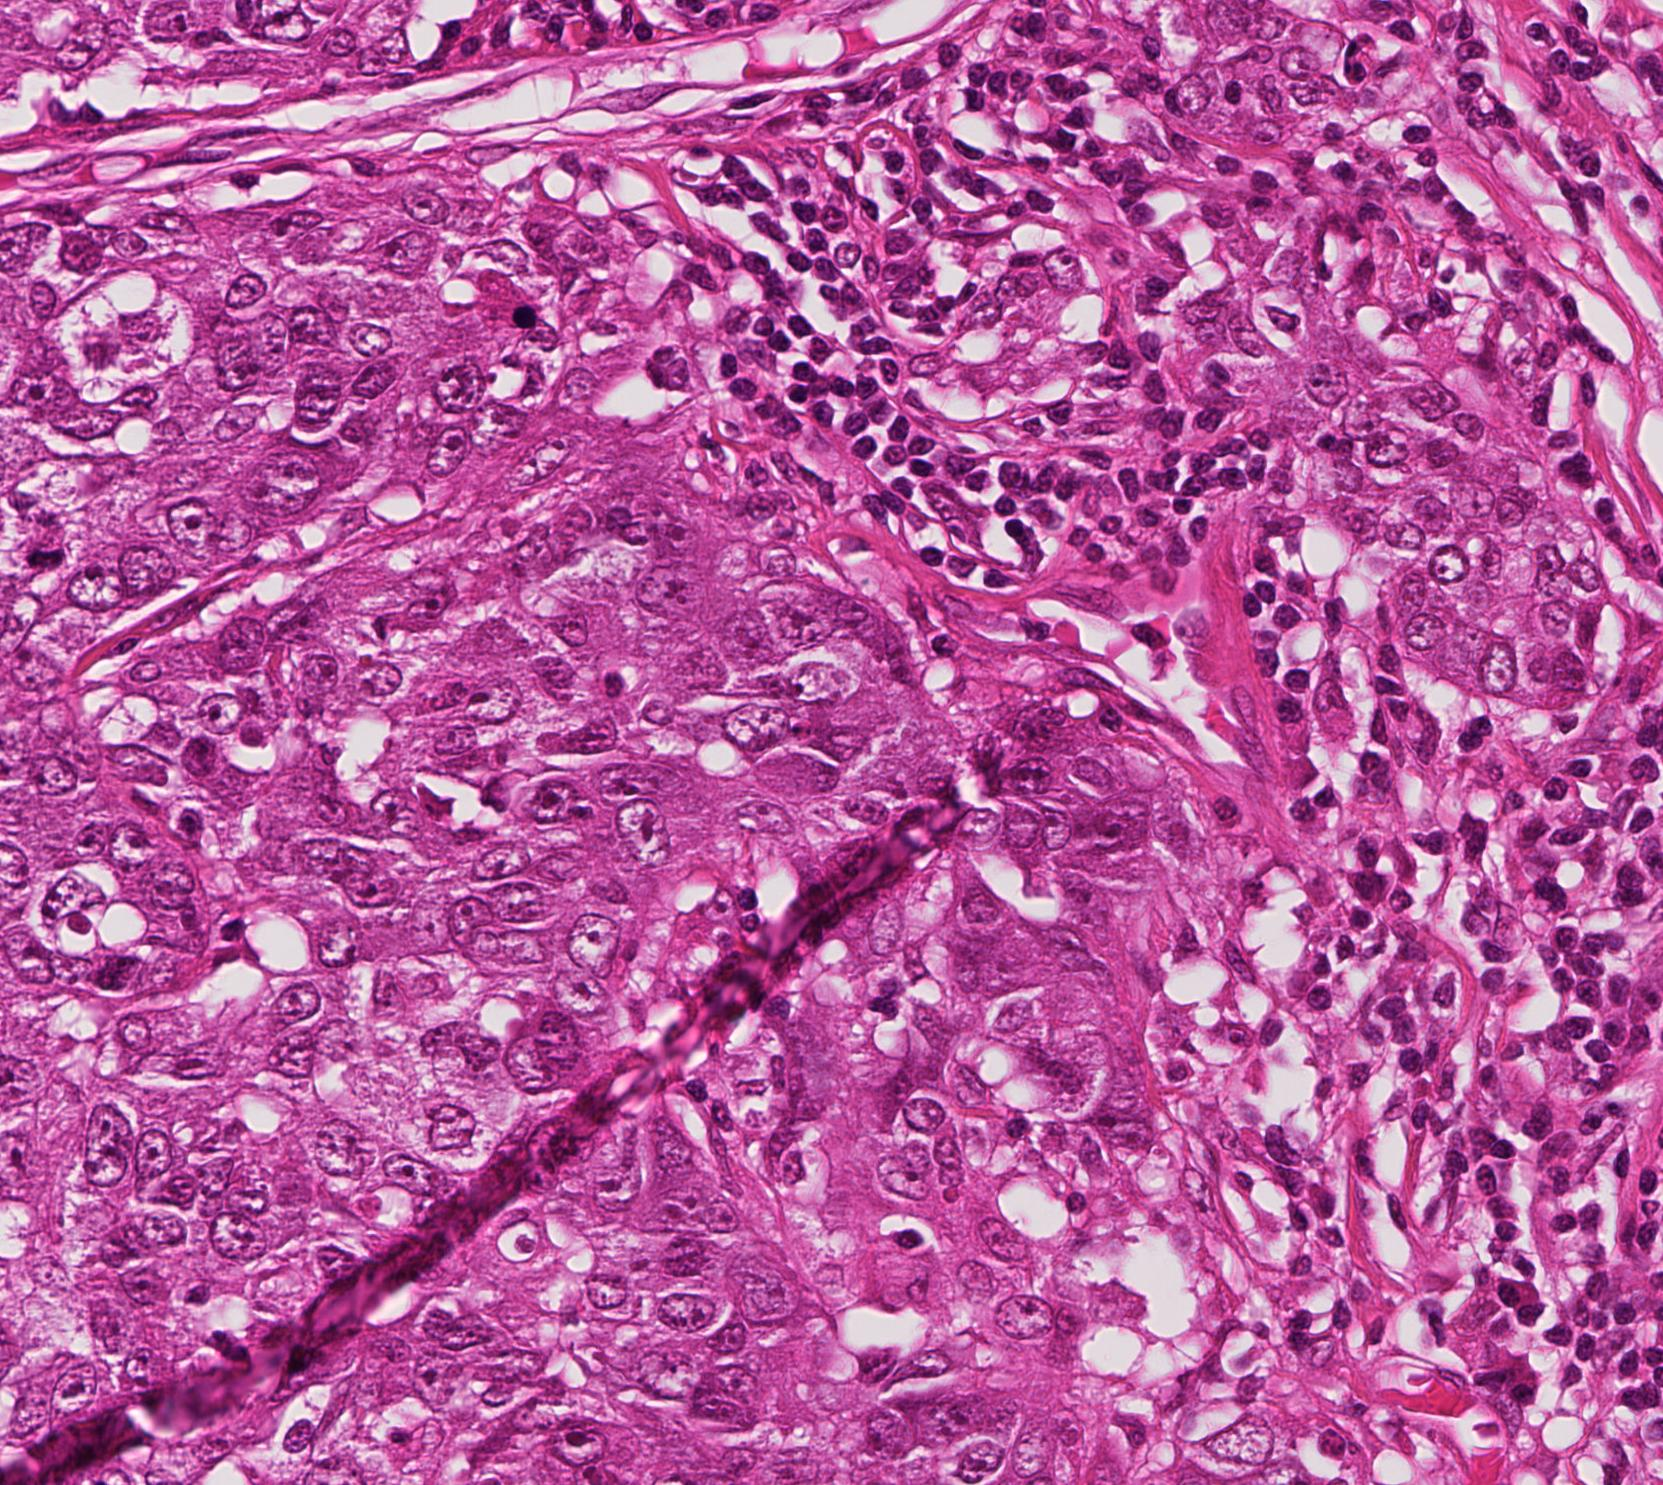mitosis: (14, 536, 75, 596)
